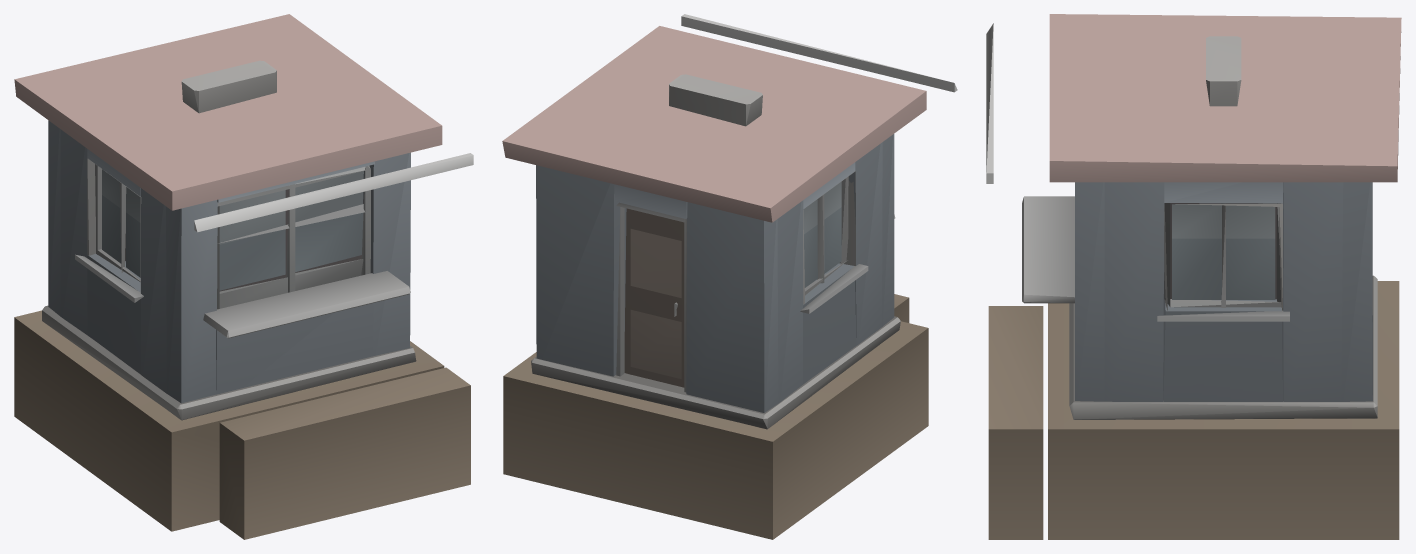
Rendered from booth.lod1.glb.
3 renders of one model, left to right at view 1: azimuth 30°, elevation 25°; view 2: azimuth 150°, elevation 25°; view 3: azimuth 270°, elevation 25°, orthographic. The views are drawn at different scales.
Size of the model in its own units: 3 by 3.79 by 3.5.
